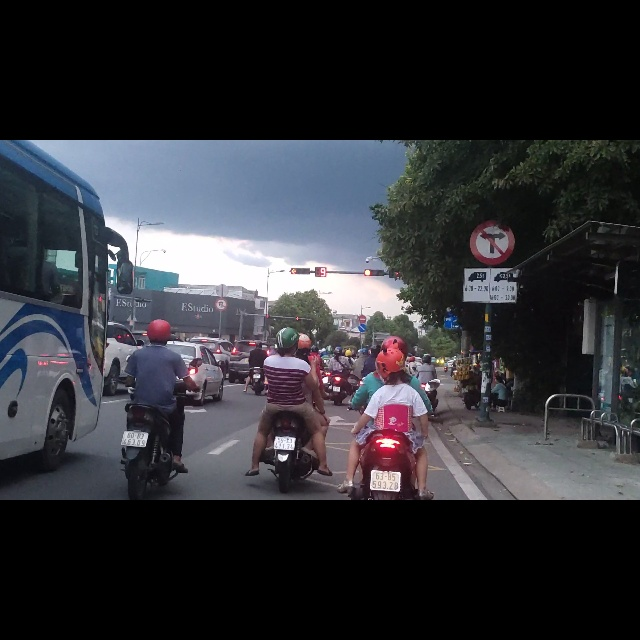bien_cam: (470, 140, 516, 223), (463, 228, 517, 292), (214, 281, 228, 305), (358, 326, 367, 341), (358, 311, 367, 326)
